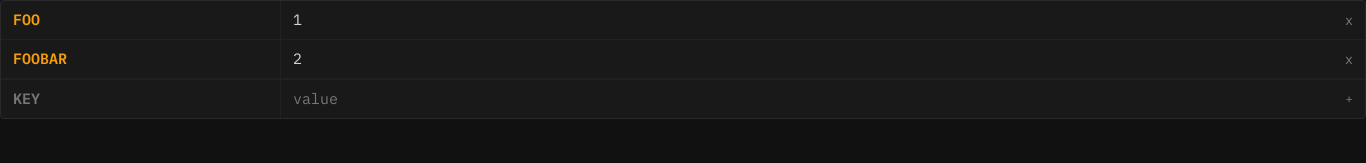
KeyValueField › rename-through-collision (FE-FORM-02 — no row destroyed mid-edit) › the transient collision is flagged, not collapsed silently
In the field named "Key for FOO": (140, 20) [13,8,268,32], type "BAR"
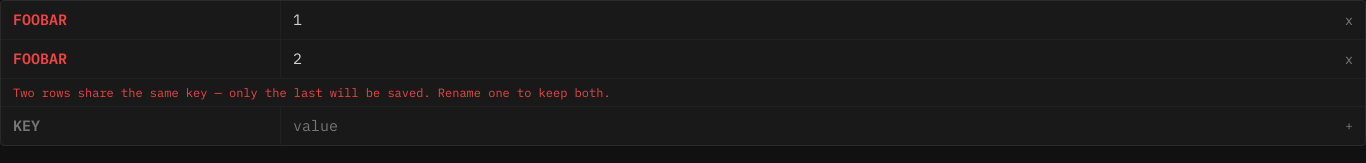
Check: the number of fields named "Key for FOOBAR" is 2, box [13,8,268,32]; [13,47,268,71]
Check: the text "only the last will be saved" is shown, box [13,85,611,100]
